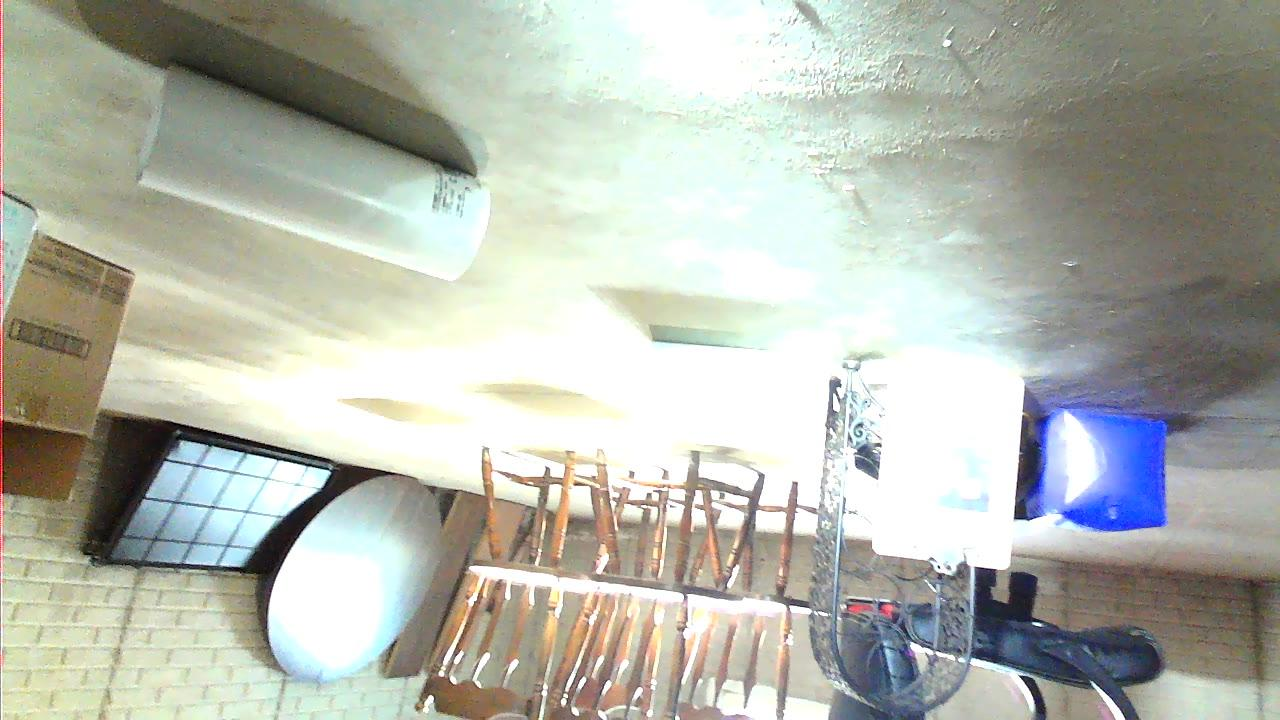coral: (787, 437, 1145, 662)
